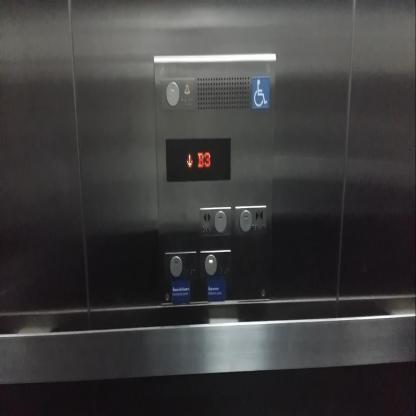CH: (250, 76, 270, 109)
alarm: (160, 76, 195, 112)
blur: (164, 250, 198, 282), (199, 249, 231, 280)
close: (234, 204, 267, 236)
led: (164, 135, 232, 182)
open: (198, 206, 232, 238)
